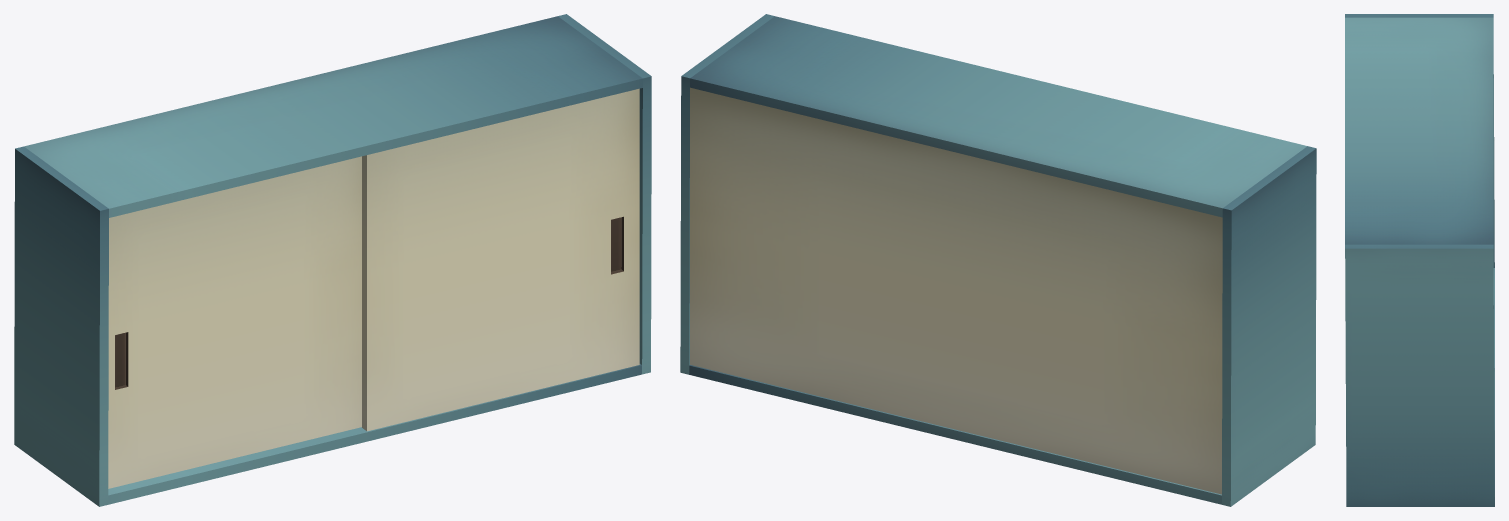
The model's file is cabin05ab.fbx.
3 renders of one model, left to right at view 1: azimuth 30°, elevation 25°; view 2: azimuth 150°, elevation 25°; view 3: azimuth 270°, elevation 25°, orthographic. The views are drawn at different scales.
Parts seen in each view (by area): view 1: cabin05ab; view 2: cabin05ab; view 3: cabin05ab.
Boxes of the visible parts, box(x1,y1,x2,y2) form: cabin05ab: box(14, 14, 651, 506); cabin05ab: box(680, 14, 1316, 506); cabin05ab: box(1345, 14, 1494, 506).
Bounding box in the file's own units: 1.24 × 0.6369 × 0.3345.
